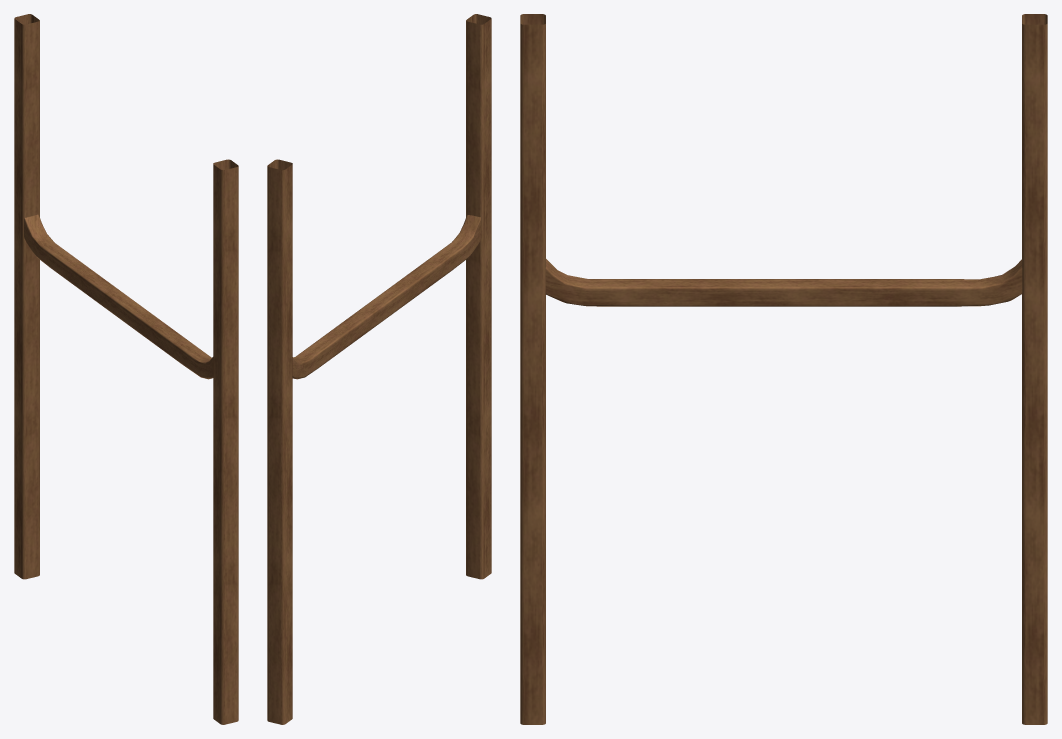
File: SM_Office_wall01k.fbx
3 renders of one model, left to right at view 1: azimuth 30°, elevation 25°; view 2: azimuth 150°, elevation 25°; view 3: azimuth 270°, elevation 25°, orthographic. The views are drawn at different scales.
Parts seen in each view (by area): view 1: SM_Office_wall01k_LOD0; view 2: SM_Office_wall01k_LOD0; view 3: SM_Office_wall01k_LOD0.
Part boxes in pixels (box(x1,y1,x2,y2)): SM_Office_wall01k_LOD0: box(14, 14, 238, 724); SM_Office_wall01k_LOD0: box(267, 14, 491, 724); SM_Office_wall01k_LOD0: box(520, 14, 1047, 724).
Size of the model in its own units: 26.51 by 546 by 799.
